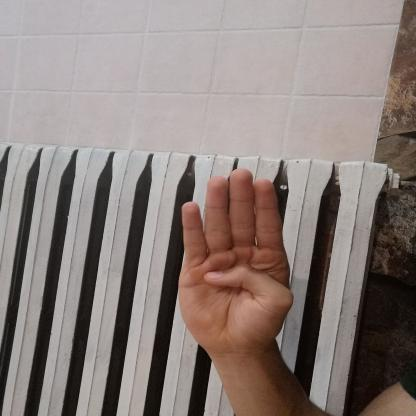KAAF: (155, 157, 317, 371)
